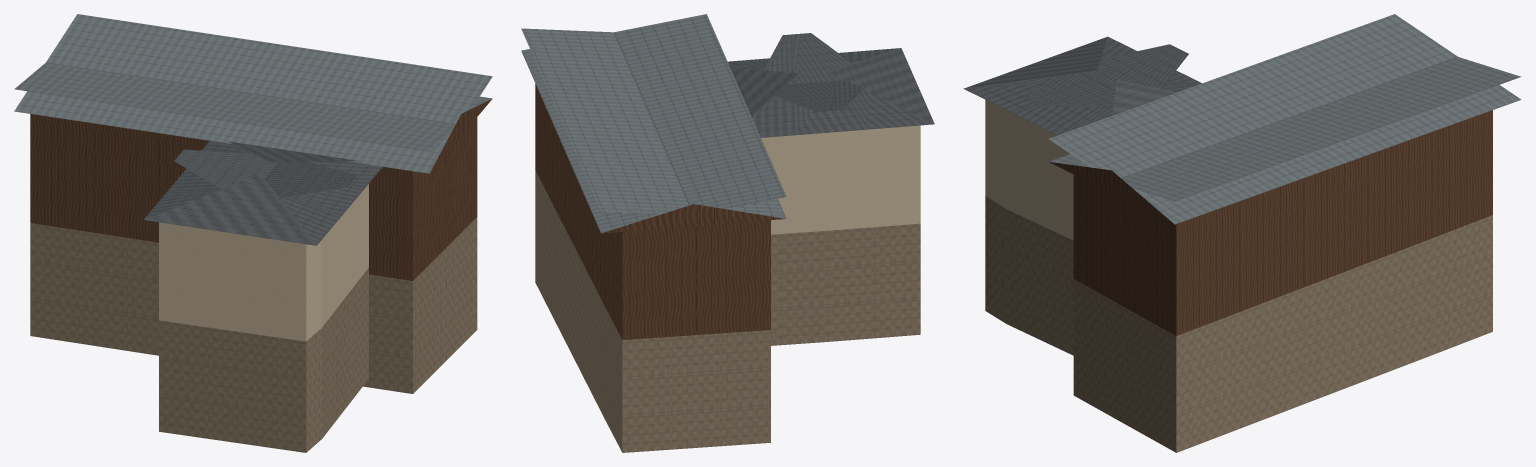
The model's file is bld_c44_31_260.gltf.
The picture shows the model from 3 angles, left to right: view 1: azimuth 30°, elevation 25°; view 2: azimuth 150°, elevation 25°; view 3: azimuth 270°, elevation 25°; orthographic projection. The views are drawn at different scales.
Parts seen in each view (by area): view 1: bld_c44_31_260; view 2: bld_c44_31_260; view 3: bld_c44_31_260.
Part boxes in pixels (box(x1,y1,x2,y2)): bld_c44_31_260: box(14, 14, 492, 452); bld_c44_31_260: box(521, 14, 934, 452); bld_c44_31_260: box(963, 14, 1521, 452).
Bounding box in the file's own units: 18.04 × 11.3 × 22.1.
6 materials, 6 textured.
